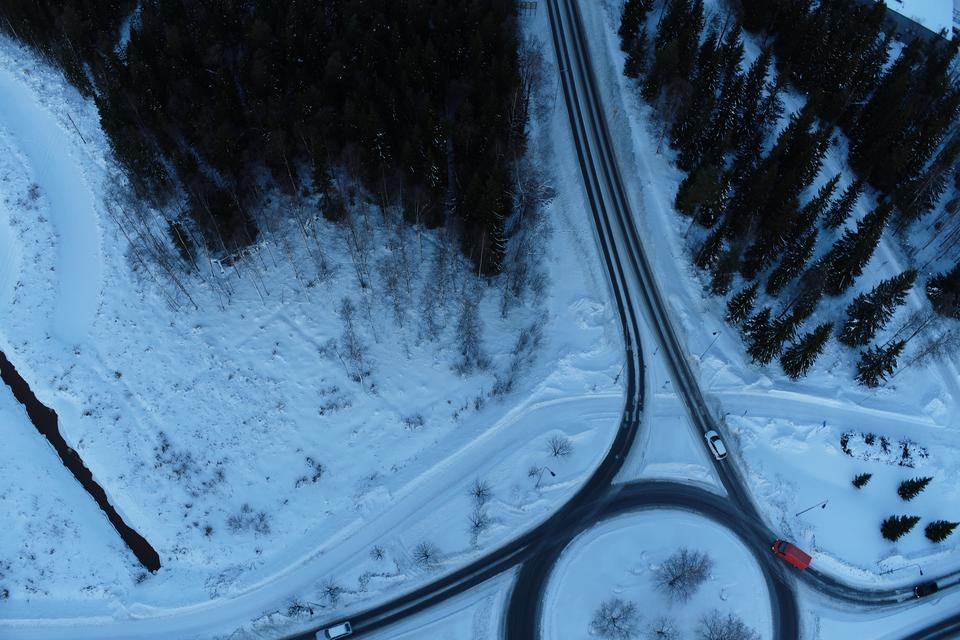intersection: (598, 375, 743, 433)
roundabout: (451, 464, 862, 640)
